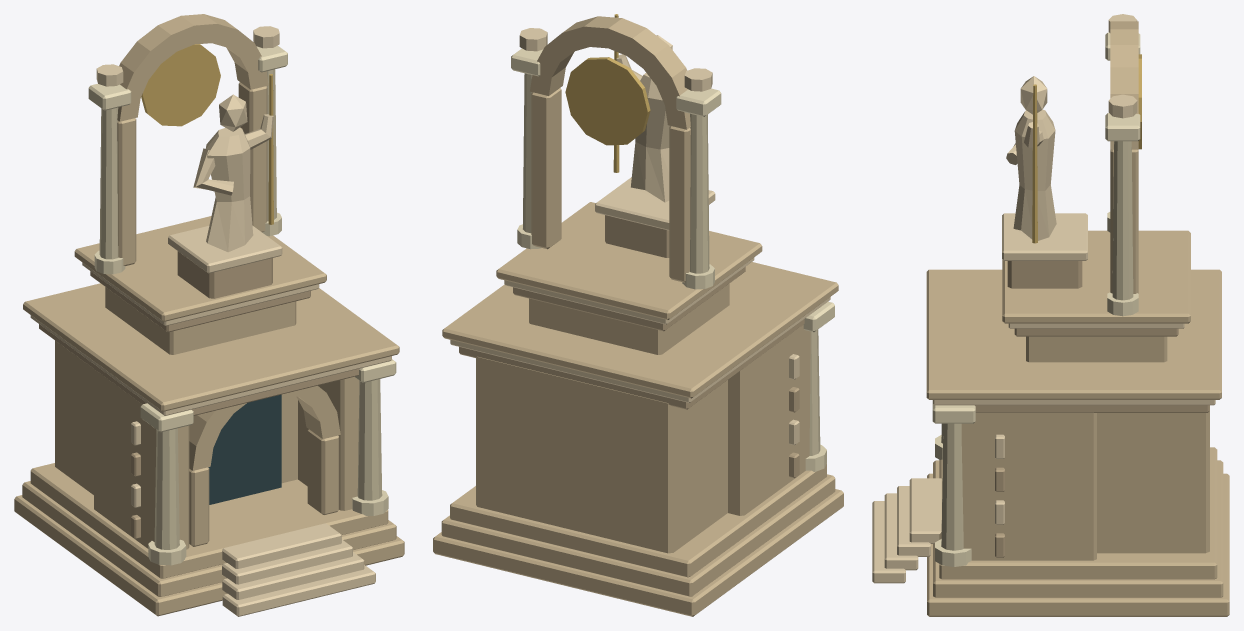
The model's file is civic-sanctum.glb.
3 renders of one model, left to right at view 1: azimuth 30°, elevation 25°; view 2: azimuth 150°, elevation 25°; view 3: azimuth 270°, elevation 25°, orthographic. The views are drawn at different scales.
Visible parts, largest first — view 1: Cube; view 2: Cube; view 3: Cube.
Boxes of the visible parts, left/top/right/bottom form: Cube: left=14, top=14, right=404, bottom=616; Cube: left=433, top=14, right=843, bottom=616; Cube: left=872, top=14, right=1229, bottom=616.
Size of the model in its own units: 0.61 by 1.17 by 0.72.
